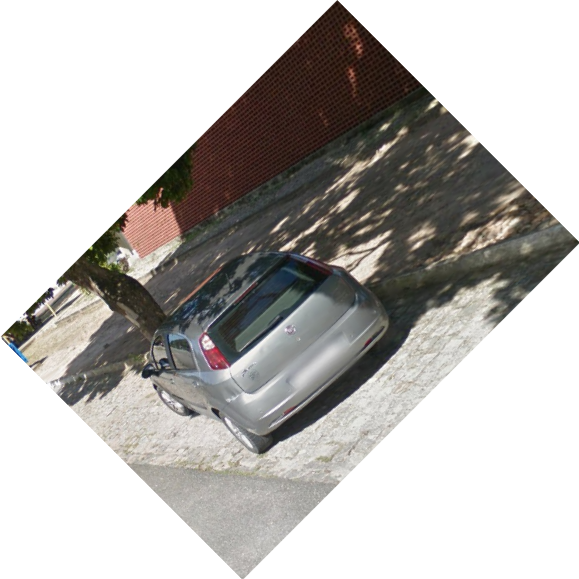car: (135, 245, 404, 460)
